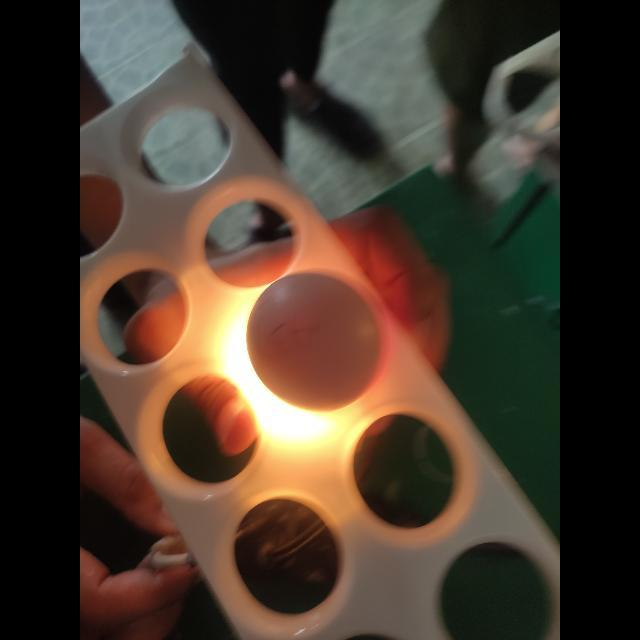Fertile: (242, 270, 390, 412)
